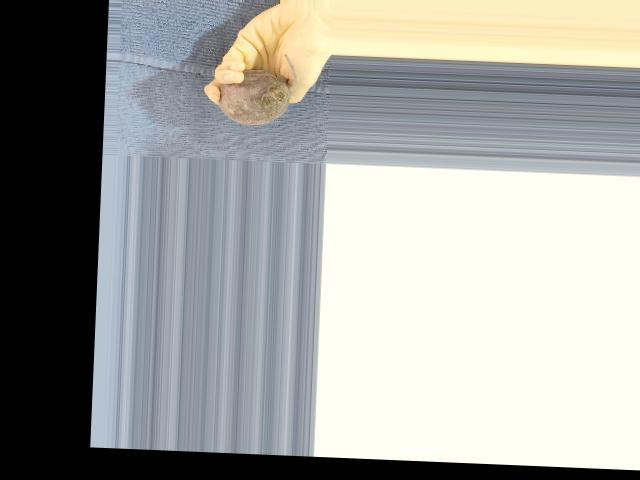beet: (217, 49, 298, 126)
